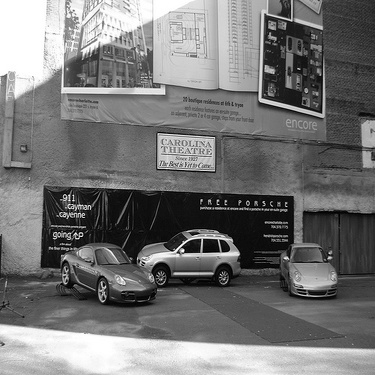car: (54, 238, 159, 306), (132, 226, 242, 282), (274, 239, 343, 302)
